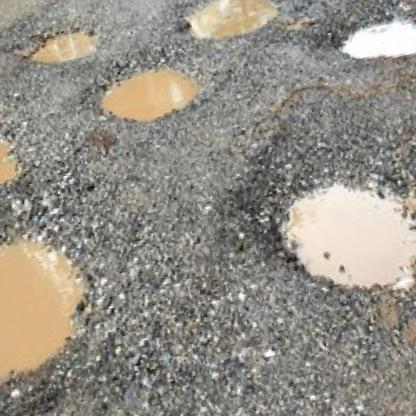pothole: (260, 144, 416, 320), (0, 209, 118, 404), (87, 49, 208, 132), (329, 0, 416, 75), (179, 0, 287, 48), (16, 18, 106, 75), (0, 126, 30, 211)
